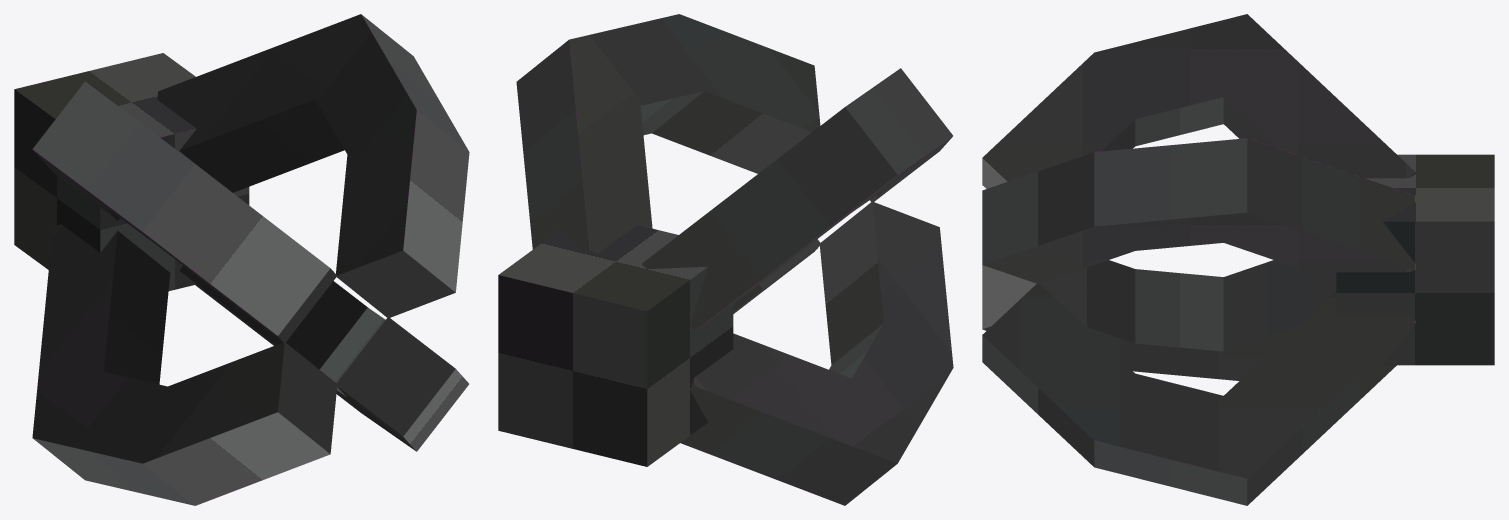
Rendered from hook.obj.
3 renders of one model, left to right at view 1: azimuth 30°, elevation 25°; view 2: azimuth 150°, elevation 25°; view 3: azimuth 270°, elevation 25°, orthographic. The views are drawn at different scales.
Parts seen in each view (by area): view 1: Component_21, group_1; view 2: Component_21, group_1; view 3: Component_21, group_1.
Boxes of the visible parts, x1,y1,x2,y2 form: Component_21: [32, 14, 469, 505]; group_1: [14, 53, 249, 290]; Component_21: [516, 14, 953, 505]; group_1: [498, 225, 733, 466]; Component_21: [982, 14, 1415, 505]; group_1: [1336, 154, 1494, 365].
Bounding box in the file's own units: 32.26 × 32.26 × 40.74.
